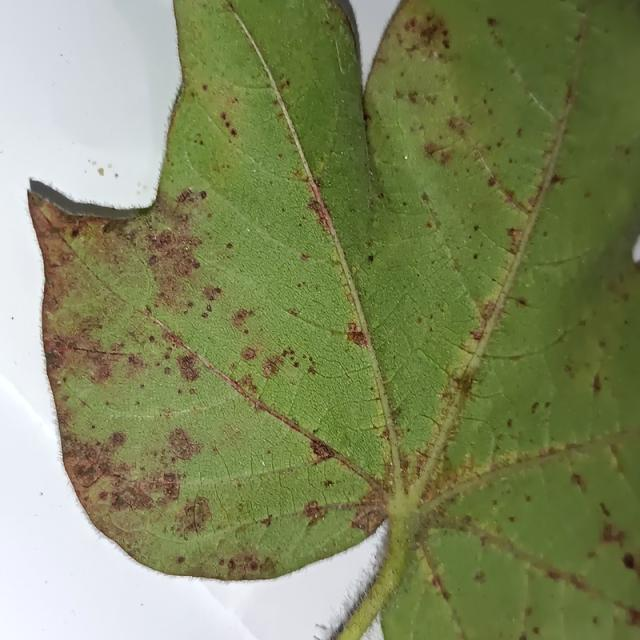Bacterial_Blight: (60, 428, 128, 495), (421, 129, 466, 173), (338, 311, 379, 345), (223, 549, 269, 578), (165, 426, 200, 462), (177, 496, 212, 531), (83, 350, 117, 384), (447, 369, 477, 406), (72, 314, 110, 343), (349, 501, 382, 533), (475, 298, 504, 333), (108, 507, 148, 532), (394, 86, 435, 108), (306, 196, 332, 228), (88, 159, 124, 182), (177, 352, 202, 383), (417, 20, 443, 46), (310, 438, 337, 461), (303, 500, 325, 523), (45, 346, 65, 370), (219, 110, 237, 136), (262, 356, 284, 377), (601, 522, 623, 543), (100, 219, 128, 235), (447, 117, 469, 137), (176, 188, 202, 204), (201, 285, 222, 303), (506, 226, 522, 249), (232, 308, 253, 325), (424, 141, 445, 157), (109, 430, 127, 447), (240, 346, 257, 362), (621, 552, 635, 570), (161, 472, 177, 487), (570, 473, 584, 490), (548, 173, 565, 186), (510, 296, 528, 308), (592, 373, 602, 393), (259, 514, 273, 528), (599, 501, 611, 517), (471, 328, 485, 341), (390, 405, 402, 420), (615, 144, 631, 155), (473, 571, 486, 583), (306, 364, 317, 376), (530, 401, 540, 414), (421, 192, 431, 205), (148, 255, 159, 266), (486, 17, 497, 27), (280, 79, 290, 89), (70, 228, 80, 238), (300, 252, 311, 261), (487, 176, 496, 186), (144, 304, 153, 314), (225, 242, 234, 250), (506, 418, 513, 428), (367, 253, 374, 263), (177, 556, 185, 564), (164, 367, 172, 375), (508, 515, 516, 523), (220, 112, 227, 121), (592, 616, 599, 625), (517, 128, 523, 138), (205, 304, 212, 312), (97, 168, 104, 176), (532, 626, 539, 634), (312, 427, 319, 435), (473, 225, 480, 232), (472, 253, 478, 260), (201, 312, 208, 318), (184, 245, 190, 251), (518, 636, 527, 640), (107, 163, 112, 168), (92, 160, 97, 165)
Cotton: (30, 0, 639, 639)
